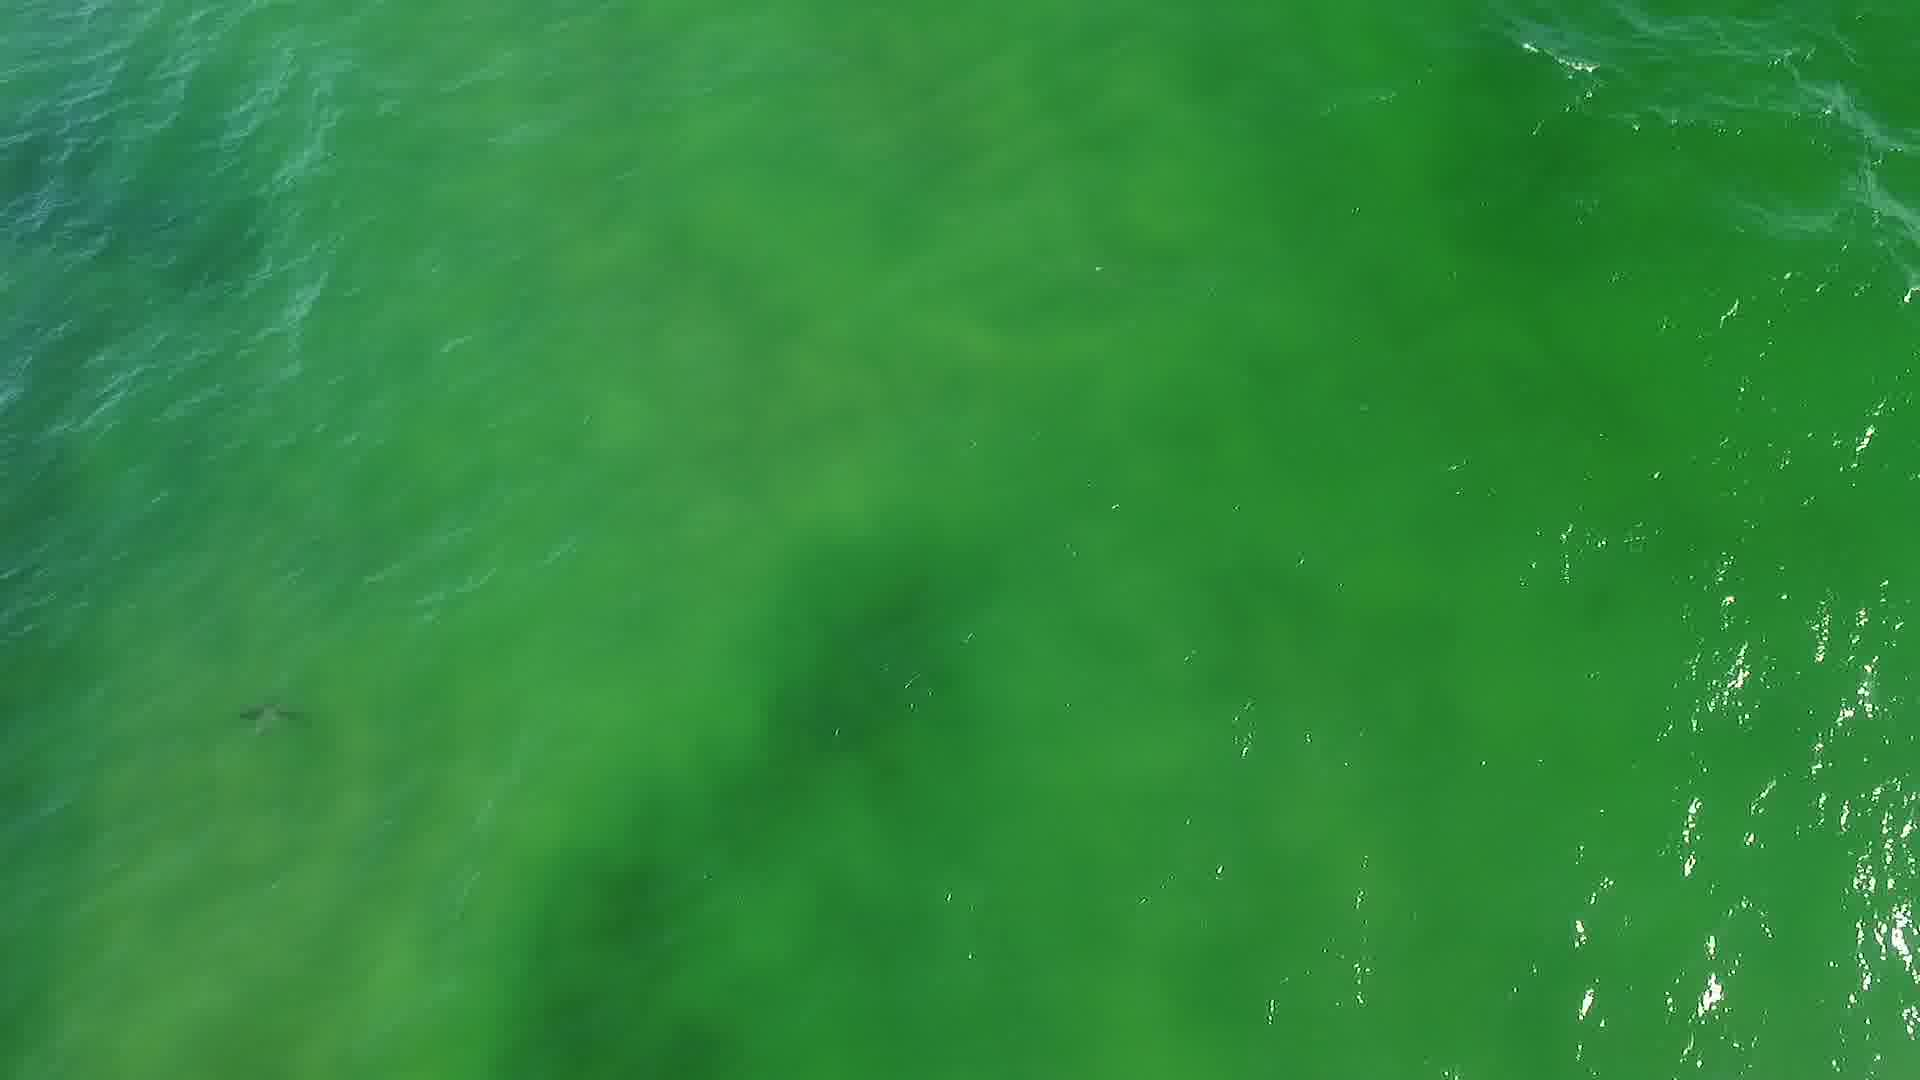shark: (235, 692, 324, 738)
